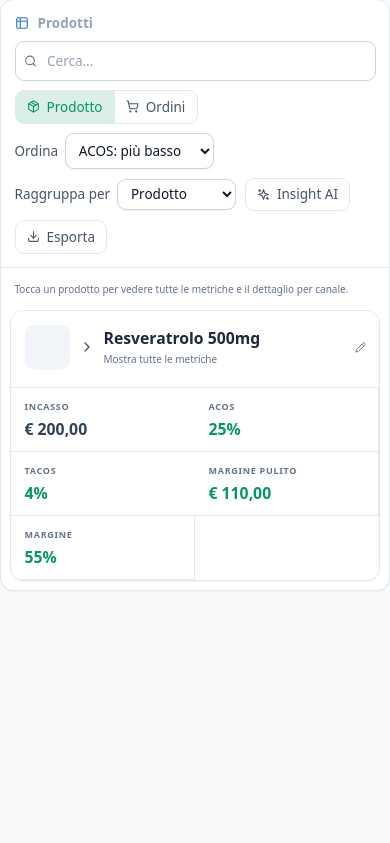
Test: ProductsPerformanceTable › shows an editable VAT rate field on an expanded identifier row, pre-filled from the row's vatRate
This screenshot has width=390, height=843.
Click the button with aria-label "espandi resveratrolo 500mg" at {"x": 213, "y": 347}, box left=78, top=327, right=348, bottom=367
(page scrolled)
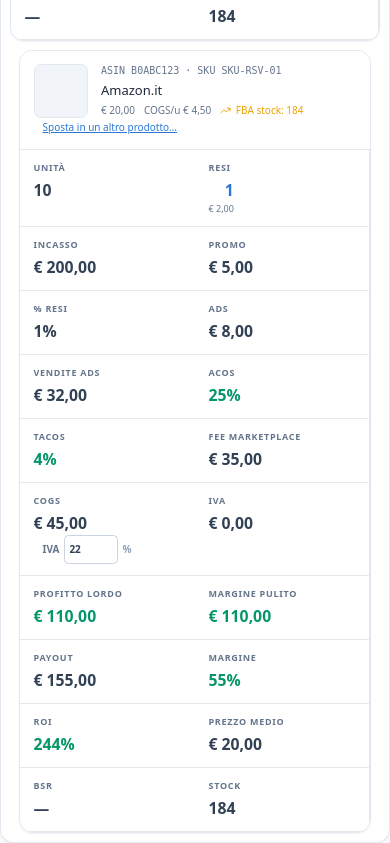
Expected: the number field named "aliquota iva" holds "22", left=64, top=535, right=118, bottom=564
